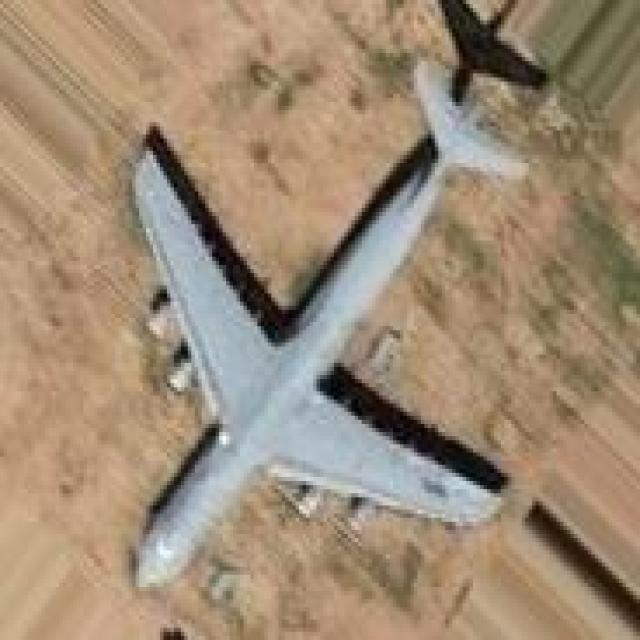C-5_TopDown: (124, 0, 558, 592)
